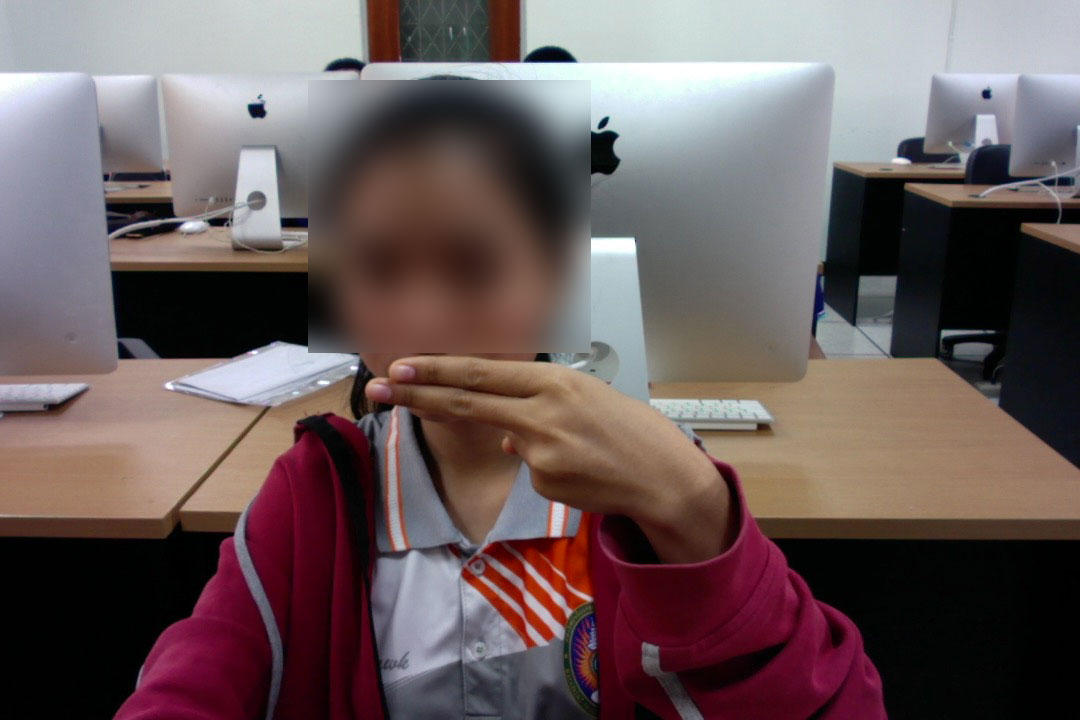hor: (352, 344, 722, 523)
